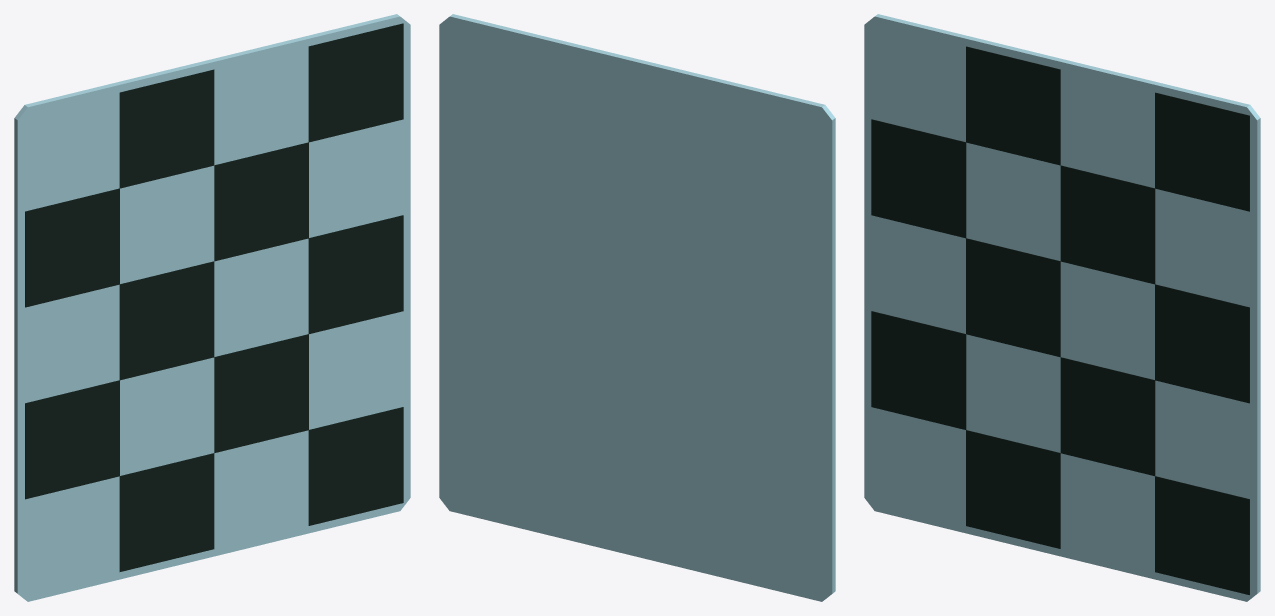
Rendered from local.glb.
3 views of the same model, side by side, from view 1: azimuth 30°, elevation 25°; view 2: azimuth 150°, elevation 25°; view 3: azimuth 330°, elevation 25° (orthographic).
Visible parts, largest first — view 1: left_checker_card; view 2: left_checker_card; view 3: left_checker_card.
Boxes of the visible parts, x1,y1,x2,y2 form: left_checker_card: (14, 14, 410, 601); left_checker_card: (439, 14, 835, 601); left_checker_card: (864, 14, 1260, 601).
Bounding box in the file's own units: 0.054 × 0.065 × 0.00086.
